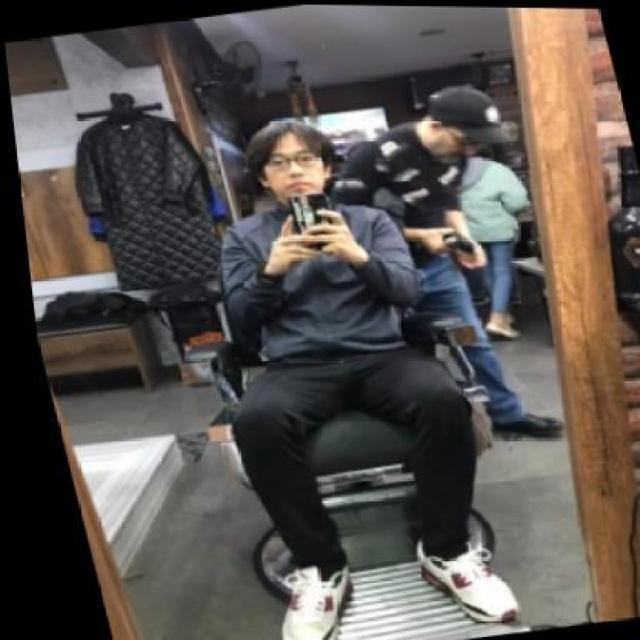hat: (398, 71, 522, 166)
